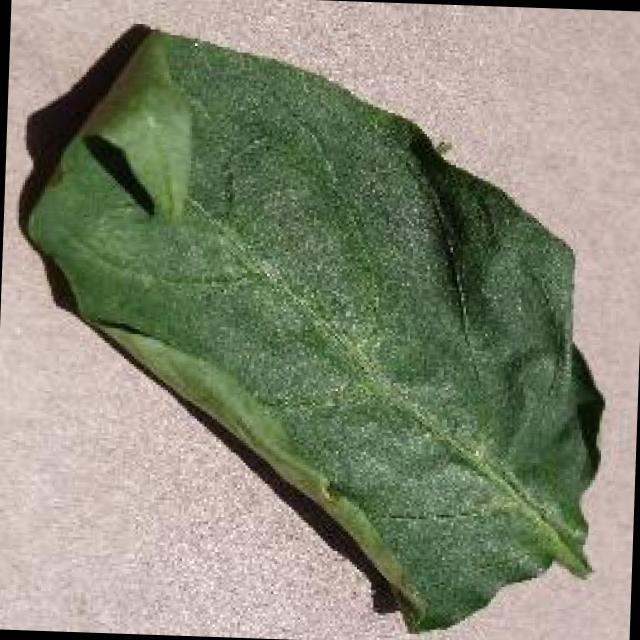Chilli_Healthy: (6, 17, 618, 640)
